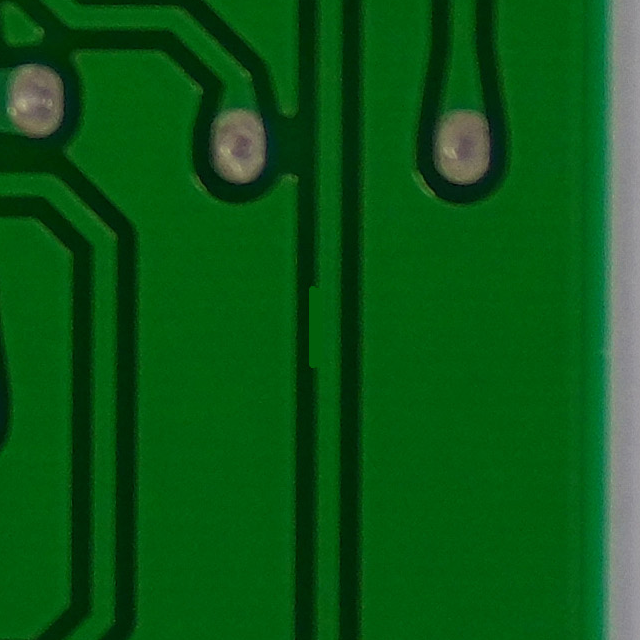spur: (285, 250, 356, 391)
